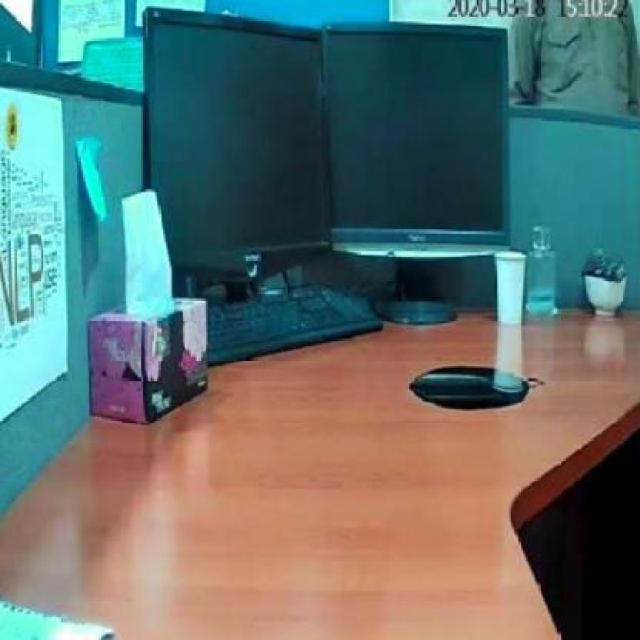spillage: (409, 366, 535, 413)
